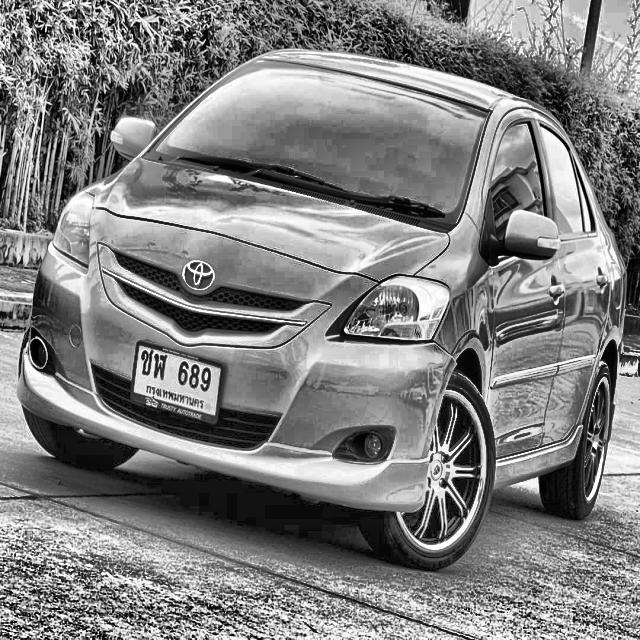license-plate: (129, 336, 227, 432)
